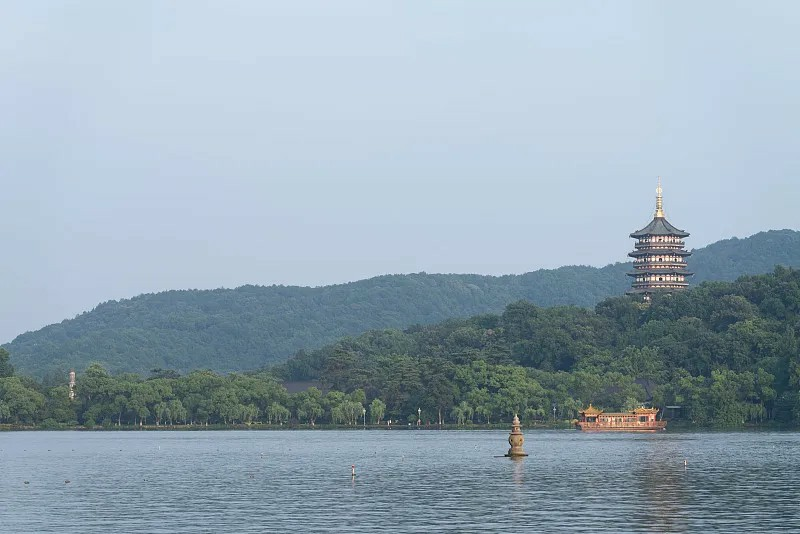Leifeng: (625, 175, 694, 299)
